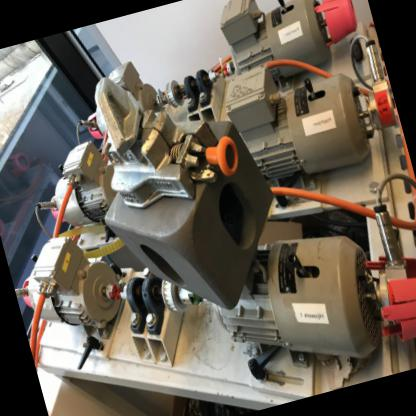CornerCasting: (95, 140, 306, 344)
Twistlock: (78, 42, 247, 224)
